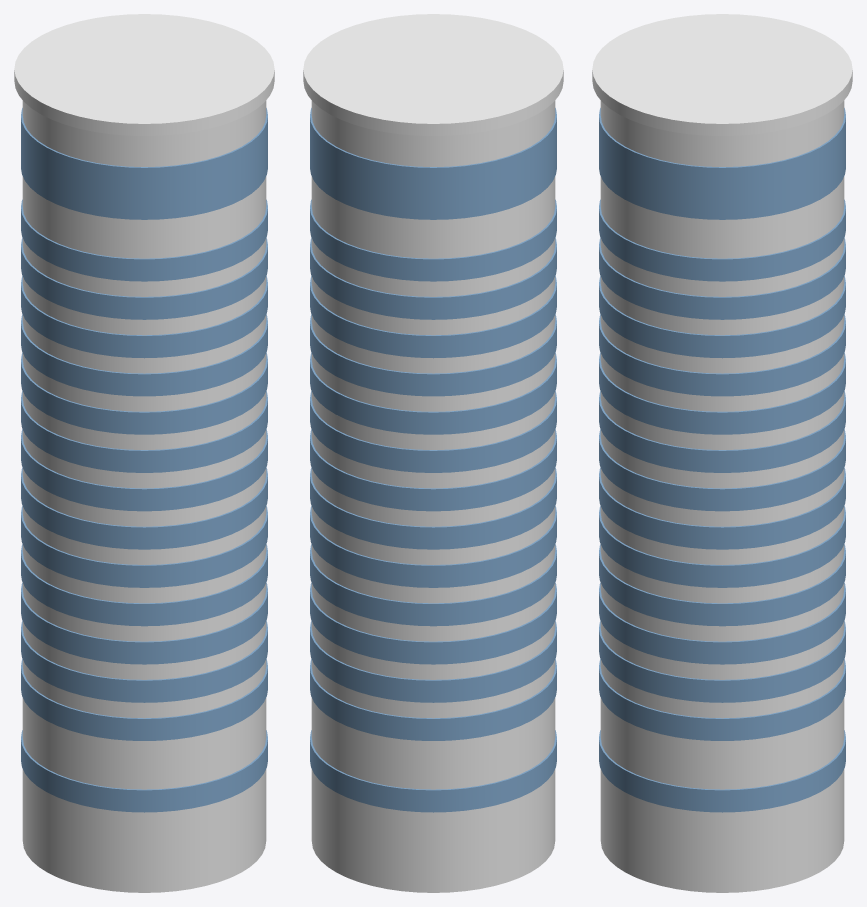
The model's file is building02.glb.
The picture shows the model from 3 angles, left to right: view 1: azimuth 30°, elevation 25°; view 2: azimuth 150°, elevation 25°; view 3: azimuth 270°, elevation 25°; orthographic projection.
Parts seen in each view (by area): view 1: CYL_BLD_ROOF, CYL_BLD_GLASS_18, CYL_BLD_WALL_00, CYL_BLD_WALL_01, CYL_BLD_WALL_03, CYL_BLD_WALL_19, CYL_BLD_GLASS_12, CYL_BLD_GLASS_09, CYL_BLD_GLASS_08, CYL_BLD_GLASS_05, CYL_BLD_GLASS_16, CYL_BLD_GLASS_15 (+25 smaller); view 2: CYL_BLD_ROOF, CYL_BLD_GLASS_18, CYL_BLD_WALL_00, CYL_BLD_WALL_01, CYL_BLD_WALL_03, CYL_BLD_WALL_19, CYL_BLD_GLASS_12, CYL_BLD_GLASS_09, CYL_BLD_GLASS_08, CYL_BLD_GLASS_05, CYL_BLD_GLASS_16, CYL_BLD_GLASS_15 (+25 smaller); view 3: CYL_BLD_ROOF, CYL_BLD_GLASS_18, CYL_BLD_WALL_00, CYL_BLD_WALL_01, CYL_BLD_WALL_03, CYL_BLD_WALL_19, CYL_BLD_GLASS_12, CYL_BLD_GLASS_09, CYL_BLD_GLASS_08, CYL_BLD_GLASS_05, CYL_BLD_GLASS_16, CYL_BLD_GLASS_15 (+25 smaller).
Part boxes in pixels (bbox=[...]): CYL_BLD_ROOF: bbox=[14, 14, 274, 130]; CYL_BLD_GLASS_18: bbox=[21, 108, 267, 219]; CYL_BLD_WALL_00: bbox=[22, 803, 266, 892]; CYL_BLD_WALL_01: bbox=[22, 769, 266, 854]; CYL_BLD_WALL_03: bbox=[22, 698, 266, 777]; CYL_BLD_WALL_19: bbox=[22, 100, 266, 165]; CYL_BLD_GLASS_12: bbox=[21, 352, 267, 434]; CYL_BLD_GLASS_09: bbox=[21, 467, 267, 549]; CYL_BLD_GLASS_08: bbox=[21, 506, 267, 587]; CYL_BLD_GLASS_05: bbox=[21, 620, 267, 702]; CYL_BLD_GLASS_16: bbox=[21, 199, 267, 281]; CYL_BLD_GLASS_15: bbox=[21, 237, 267, 319]; CYL_BLD_ROOF: bbox=[303, 14, 563, 130]; CYL_BLD_GLASS_18: bbox=[310, 108, 556, 219]; CYL_BLD_WALL_00: bbox=[311, 803, 555, 892]; CYL_BLD_WALL_01: bbox=[311, 769, 555, 854]; CYL_BLD_WALL_03: bbox=[311, 698, 555, 777]; CYL_BLD_WALL_19: bbox=[311, 100, 555, 165]; CYL_BLD_GLASS_12: bbox=[310, 352, 556, 434]; CYL_BLD_GLASS_09: bbox=[310, 467, 556, 549]; CYL_BLD_GLASS_08: bbox=[310, 506, 556, 587]; CYL_BLD_GLASS_05: bbox=[310, 620, 556, 702]; CYL_BLD_GLASS_16: bbox=[310, 199, 556, 281]; CYL_BLD_GLASS_15: bbox=[310, 237, 556, 319]; CYL_BLD_ROOF: bbox=[592, 14, 852, 130]; CYL_BLD_GLASS_18: bbox=[599, 108, 845, 219]; CYL_BLD_WALL_00: bbox=[600, 803, 844, 892]; CYL_BLD_WALL_01: bbox=[600, 769, 844, 854]; CYL_BLD_WALL_03: bbox=[600, 698, 844, 777]; CYL_BLD_WALL_19: bbox=[600, 100, 844, 165]; CYL_BLD_GLASS_12: bbox=[599, 352, 845, 434]; CYL_BLD_GLASS_09: bbox=[599, 467, 845, 549]; CYL_BLD_GLASS_08: bbox=[599, 506, 845, 587]; CYL_BLD_GLASS_05: bbox=[599, 620, 845, 702]; CYL_BLD_GLASS_16: bbox=[599, 199, 845, 281]; CYL_BLD_GLASS_15: bbox=[599, 237, 845, 319].
Bounding box in the file's own units: 0.077 × 0.2522 × 0.077.
